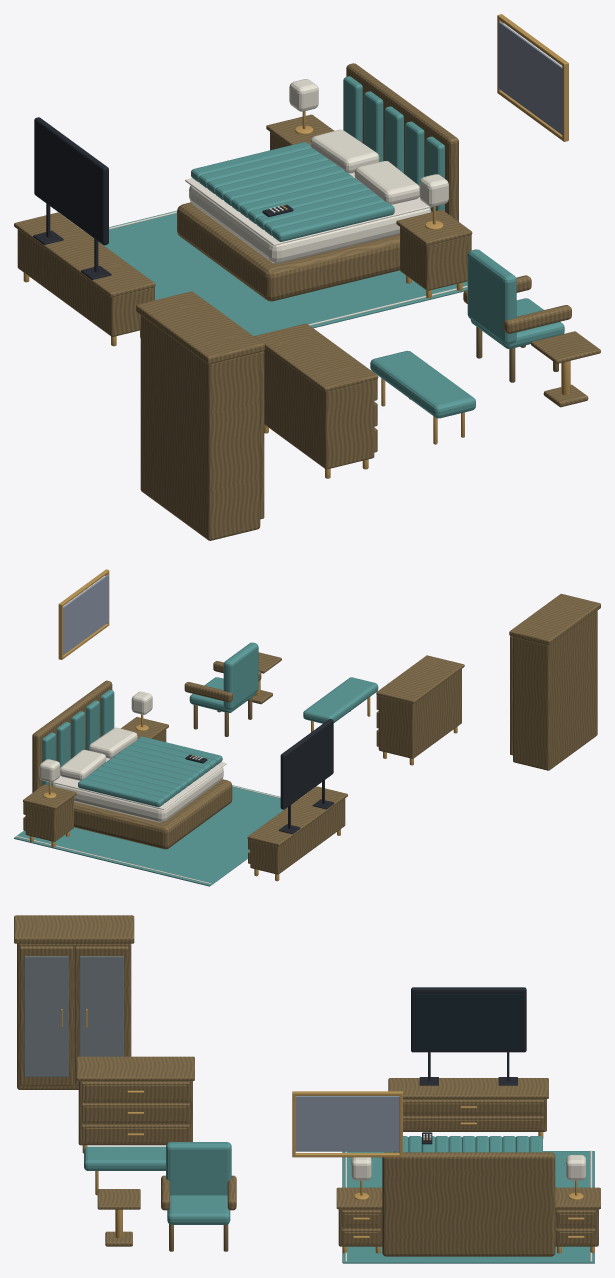
Rendered from room-15.glb.
3 views of the same model, one above another, from view 1: azimuth 30°, elevation 25°; view 2: azimuth 150°, elevation 25°; view 3: azimuth 270°, elevation 25° (orthographic). The views are drawn at different scales.
Visible parts, largest first — view 1: WARDROBE | closed carcass.004, RUG | bound wool.004, DRESSER | closed carcass.004, BED | upholstered platform.004, TV | solid chassis.004, TV CONSOLE | closed carcass.004, WARDROBE | crown.004, ART | ECLIPSE PLACEHOLDER | canvas solid.004, BED | sprung mattress.004, DRESSER | overhanging top.004, TV CONSOLE | overhanging top.004, LUGGAGE | upholstered bench.004 (+30 smaller); view 2: WARDROBE | closed carcass.004, RUG | bound wool.004, DRESSER | closed carcass.004, BED | upholstered platform.004, TV | solid chassis.004, TV CONSOLE | closed carcass.004, WARDROBE | crown.004, ART | ECLIPSE PLACEHOLDER | canvas solid.004, BED | sprung mattress.004, DRESSER | overhanging top.004, TV CONSOLE | overhanging top.004, LUGGAGE | upholstered bench.004 (+27 smaller); view 3: BED | headboard frame.004, TV | SCREEN.004, ART | ECLIPSE PLACEHOLDER | canvas solid.004, WARDROBE | recessed door panel.009, RUG | bound wool.004, WARDROBE | recessed door panel.008, WARDROBE | crown.004, CHAIR | shaped upholstered back.004, TV CONSOLE | overhanging top.004, DRESSER | overhanging top.004, WARDROBE | framed door.009, LUGGAGE | upholstered bench.004 (+25 smaller).
Part boxes in pixels (x1,y1,x2,y2): WARDROBE | closed carcass.004: (140, 315, 260, 540); RUG | bound wool.004: (90, 210, 467, 335); DRESSER | closed carcass.004: (264, 348, 374, 469); BED | upholstered platform.004: (177, 202, 399, 301); TV | solid chassis.004: (34, 117, 108, 245); TV CONSOLE | closed carcass.004: (17, 229, 151, 336); WARDROBE | crown.004: (136, 291, 264, 364); ART | ECLIPSE PLACEHOLDER | canvas solid.004: (498, 21, 562, 135); BED | sprung mattress.004: (189, 185, 431, 263); DRESSER | overhanging top.004: (254, 323, 378, 391); TV CONSOLE | overhanging top.004: (14, 212, 155, 297); LUGGAGE | upholstered bench.004: (370, 350, 475, 418); WARDROBE | closed carcass.004: (513, 610, 597, 770); RUG | bound wool.004: (14, 785, 284, 886); DRESSER | closed carcass.004: (378, 669, 461, 758); BED | upholstered platform.004: (74, 779, 232, 849); TV | solid chassis.004: (280, 719, 333, 809); TV CONSOLE | closed carcass.004: (250, 798, 345, 874); WARDROBE | crown.004: (509, 593, 600, 645); ART | ECLIPSE PLACEHOLDER | canvas solid.004: (63, 575, 108, 654); BED | sprung mattress.004: (52, 767, 223, 822); DRESSER | overhanging top.004: (376, 655, 464, 703); TV CONSOLE | overhanging top.004: (247, 786, 347, 846); LUGGAGE | upholstered bench.004: (303, 677, 378, 723); BED | headboard frame.004: (382, 1152, 555, 1256); TV | SCREEN.004: (415, 994, 522, 1049); ART | ECLIPSE PLACEHOLDER | canvas solid.004: (295, 1096, 399, 1151); WARDROBE | recessed door panel.009: (24, 956, 68, 1076); RUG | bound wool.004: (342, 1151, 594, 1263); WARDROBE | recessed door panel.008: (79, 956, 123, 1056); WARDROBE | crown.004: (14, 915, 134, 943); CHAIR | shaped upholstered back.004: (166, 1142, 231, 1195); TV CONSOLE | overhanging top.004: (388, 1078, 548, 1098); DRESSER | overhanging top.004: (76, 1056, 194, 1080); WARDROBE | framed door.009: (20, 946, 73, 1085); LUGGAGE | upholstered bench.004: (84, 1146, 165, 1170).
Size of the model in its own units: 7.28 by 3.07 by 8.48.
10 materials, 1 textured.
